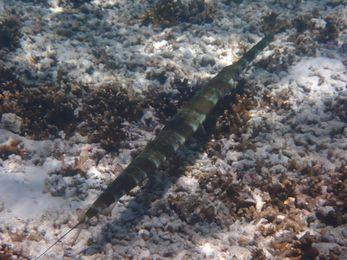Fistularia commersonii: (71, 15, 273, 252)
